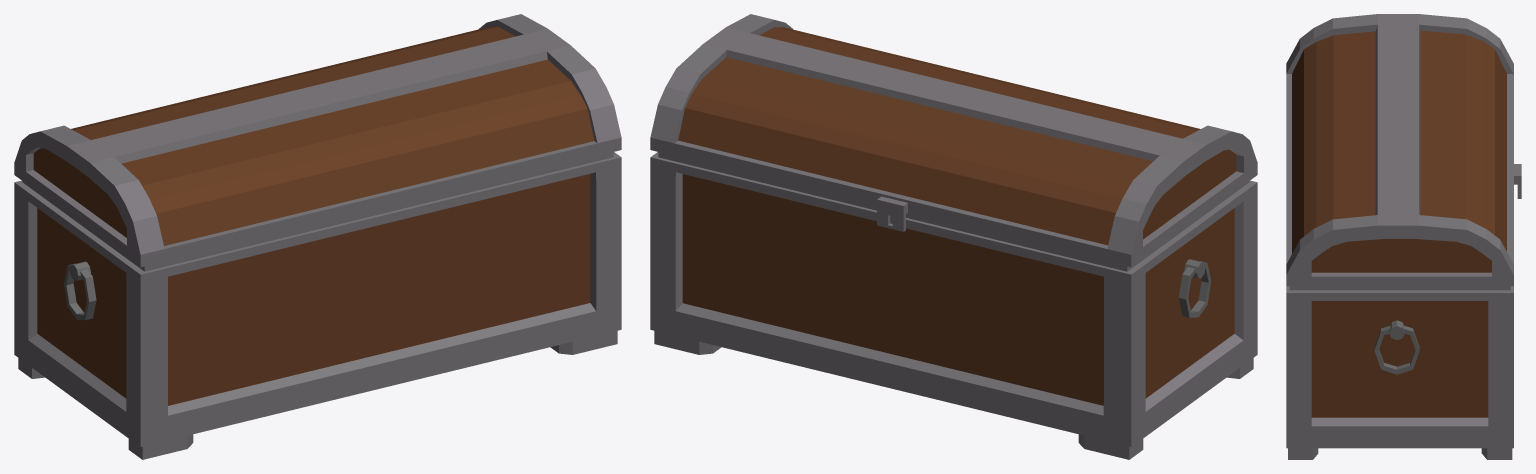
The model's file is chest02.gltf.
3 views of the same model, side by side, from view 1: azimuth 30°, elevation 25°; view 2: azimuth 150°, elevation 25°; view 3: azimuth 270°, elevation 25° (orthographic). The views are drawn at different scales.
Parts seen in each view (by area): view 1: Cube; view 2: Cube; view 3: Cube.
Boxes of the visible parts, <box> form: Cube: <box>14,14,621,459</box>; Cube: <box>650,14,1257,459</box>; Cube: <box>1286,14,1521,459</box>.
Size of the model in its own units: 1.33 by 0.6761 by 0.612.
Materials: 1 (1 with a texture image).
